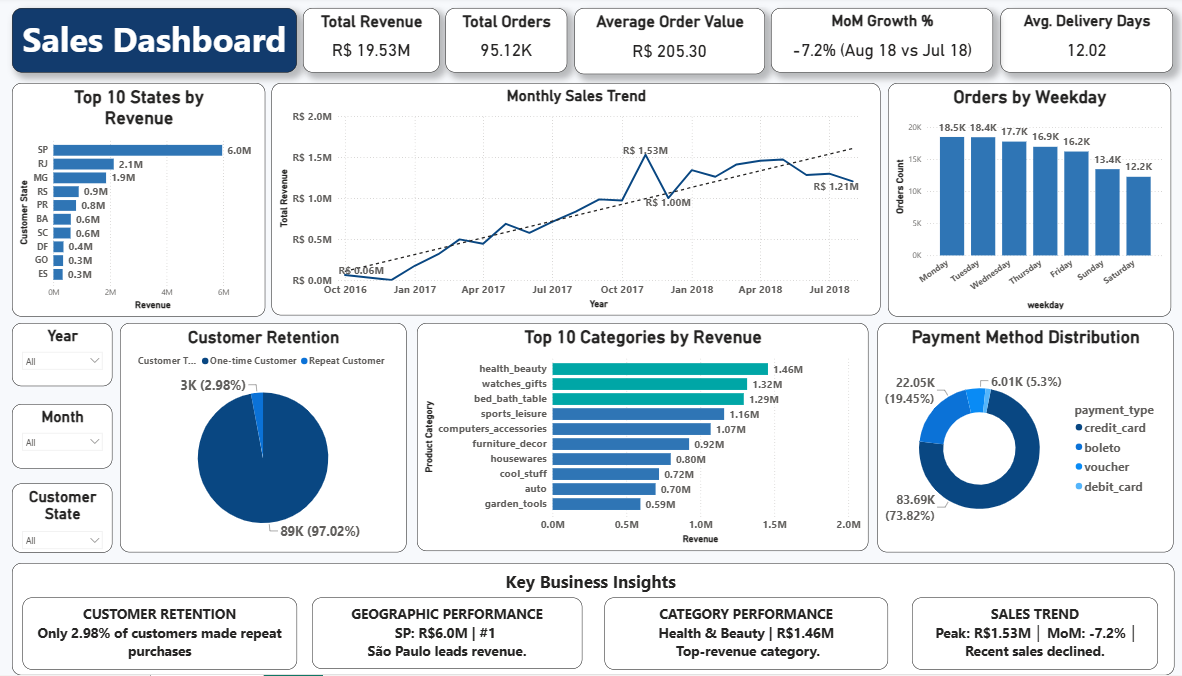

The page's visual inventory and layout, read from the dashboard file:
{"tool":"powerbi","page":{"name":"Page 1","canvas":[1650,1000],"ordinal":0},"visuals":[{"type":"clusteredBarChart","title":"Top 10 Categories by Revenue","fields":{"Category":["Sheet1.product_category_name_english"],"Y":["Sum(Sheet1.total_price)"]},"box":[987.3,634.2,634.2,364.3],"z":0},{"type":"clusteredColumnChart","title":"Orders by Weekday","fields":{"Category":["Sheet1.weekday"],"Y":["CountNonNull(Sheet1.order_purchase_timestamp)"]},"box":[445.3,224.9,472.3,386.8],"z":1000},{"type":"textbox","box":[24.7,0,751.1,90],"z":2000},{"type":"card","title":"Total Revenue","fields":{"Values":["Sheet1.Total Revenue"]},"box":[24.7,107.9,278.9,94.5],"z":3000},{"type":"card","title":"Avg. Delivery Days","fields":{"Values":["Sheet1.Avg Delivery"]},"box":[1322.4,107.9,299.1,94.5],"z":4000},{"type":"card","title":"Total Orders","fields":{"Values":["Count(Sheet1.order_id)"]},"box":[319.3,107.9,216.2,95.3],"z":5000},{"type":"clusteredBarChart","title":"Top 10 States by Revenue","fields":{"Category":["Sheet1.customer_state"],"Y":["Sum(Sheet1.total_price)"]},"box":[24.7,222.6,395.8,386.8],"z":6000},{"type":"pieChart","title":"Payment Method Distribution","fields":{"Category":["Sheet1.payment_type"],"Y":["CountNonNull(Sheet1.payment_type)"]},"box":[510.5,636.4,461,364.3],"z":7000},{"type":"card","title":"Average Order Value","fields":{"Values":["Sheet1.AOV1"]},"box":[551,107.9,317.1,94.5],"z":9000},{"type":"advancedSlicerVisual","fields":{"Label":["Min(Sheet1.seller_state)"],"Values":["Calendar.Date.Variation.Date Hierarchy.Year"]},"box":[791.6,2.2,829.9,87.7],"z":10000},{"type":"lineChart","title":"Monthly Sales Trend","fields":{"Category":["Sheet1.month_year.Variation.Date Hierarchy.Year","Sheet1.month_year.Variation.Date Hierarchy.Month"],"Y":["Sheet1.Total Revenue"]},"box":[940.1,220.4,681.4,389.1],"z":11000},{"type":"card","title":"MoM Growth %","fields":{"Values":["Sheet1.MoM Growth Card"]},"box":[886.1,107.9,411.6,94.5],"z":12000},{"type":"donutChart","title":"Customer Purchase Frequency","fields":{"Category":["Sheet1.Customer Type"],"Y":["Sheet1.Customer Count"]},"box":[24.7,634.2,470,366.6],"z":12001}]}

Visuals, with their boxes on the page's 1650x1000 design canvas (x1, y1, x2, y2). These are canvas units, not pixel positions in the 1182x676 screenshot, which may show the page scaled, cropped or inside an application window:
"Top 10 Categories by Revenue" clusteredBarChart: 987/634/1622/998
"Orders by Weekday" clusteredColumnChart: 445/225/918/612
textbox: 25/0/776/90
"Total Revenue" card: 25/108/304/202
"Avg. Delivery Days" card: 1322/108/1622/202
"Total Orders" card: 319/108/536/203
"Top 10 States by Revenue" clusteredBarChart: 25/223/420/609
"Payment Method Distribution" pieChart: 510/636/972/1001
"Average Order Value" card: 551/108/868/202
advancedSlicerVisual - Min(Sheet1.seller_state) x Calendar.Date.Variation.Date Hierarchy.Year: 792/2/1622/90
"Monthly Sales Trend" lineChart: 940/220/1622/610
"MoM Growth %" card: 886/108/1298/202
"Customer Purchase Frequency" donutChart: 25/634/495/1001
